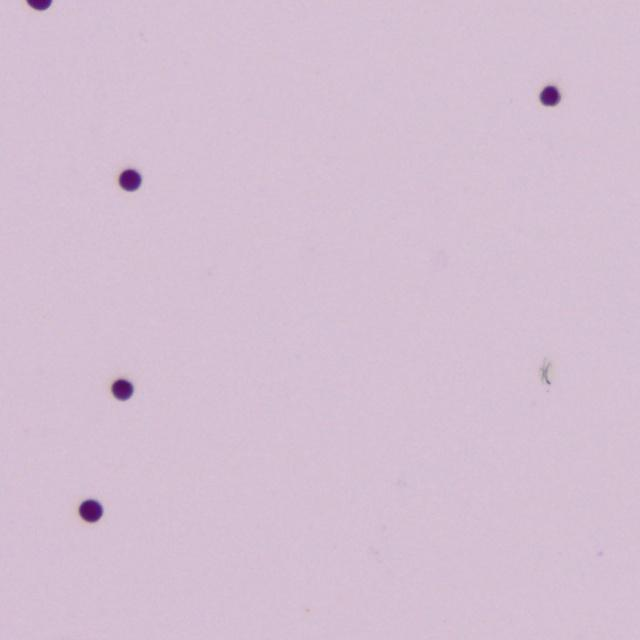viable: (119, 169, 141, 191), (79, 500, 102, 521), (112, 379, 130, 400), (540, 86, 559, 105), (27, 0, 51, 10)
